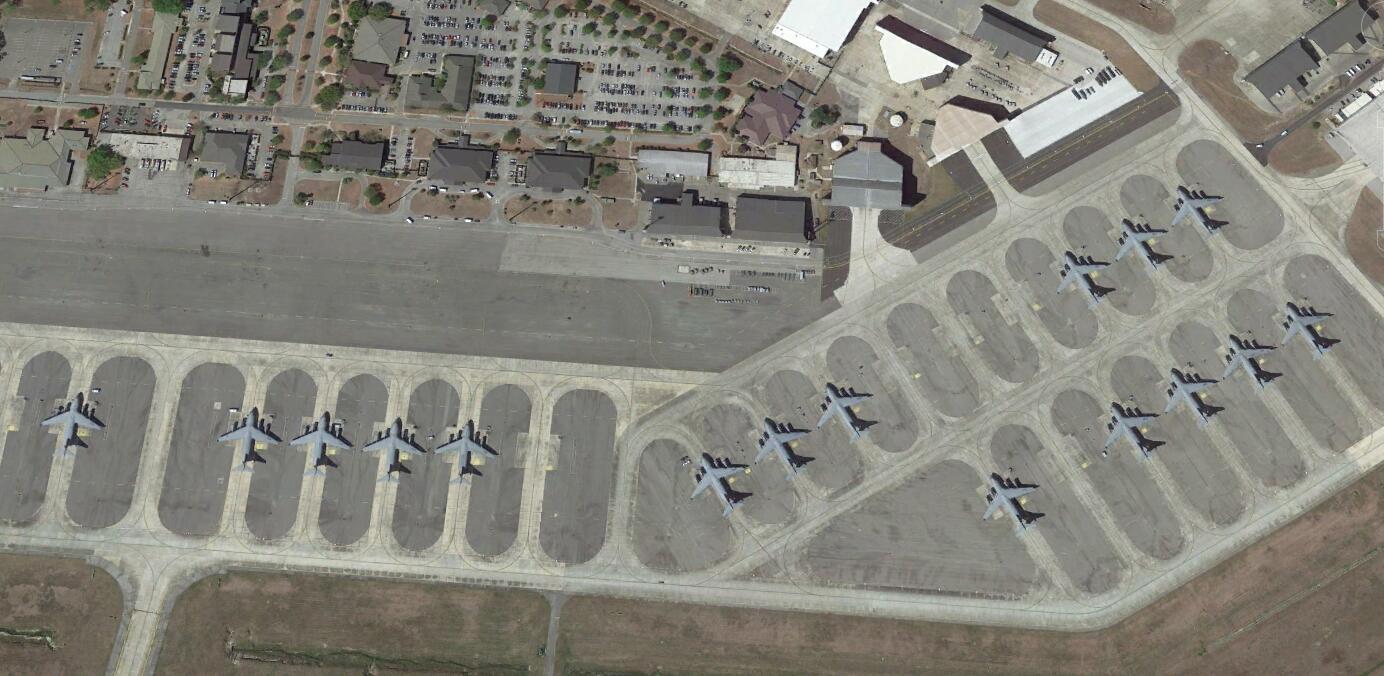A3: (38, 394, 109, 455), (815, 383, 878, 449), (434, 419, 500, 481), (291, 411, 354, 474), (216, 408, 284, 466), (363, 416, 426, 477), (690, 452, 750, 516), (751, 416, 809, 477), (1168, 184, 1234, 236), (1282, 300, 1340, 359), (981, 474, 1038, 534), (1054, 250, 1115, 306), (1104, 402, 1163, 459), (1165, 365, 1221, 424), (1222, 334, 1278, 389), (1115, 216, 1166, 272)
